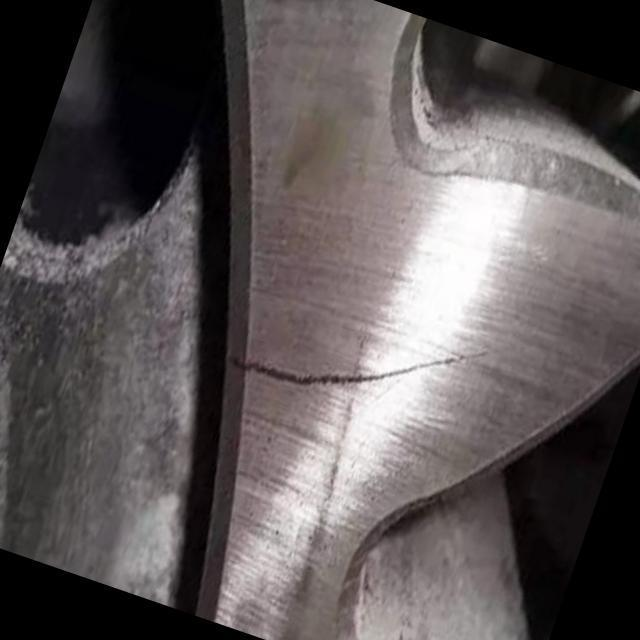defect: (225, 344, 500, 398)
